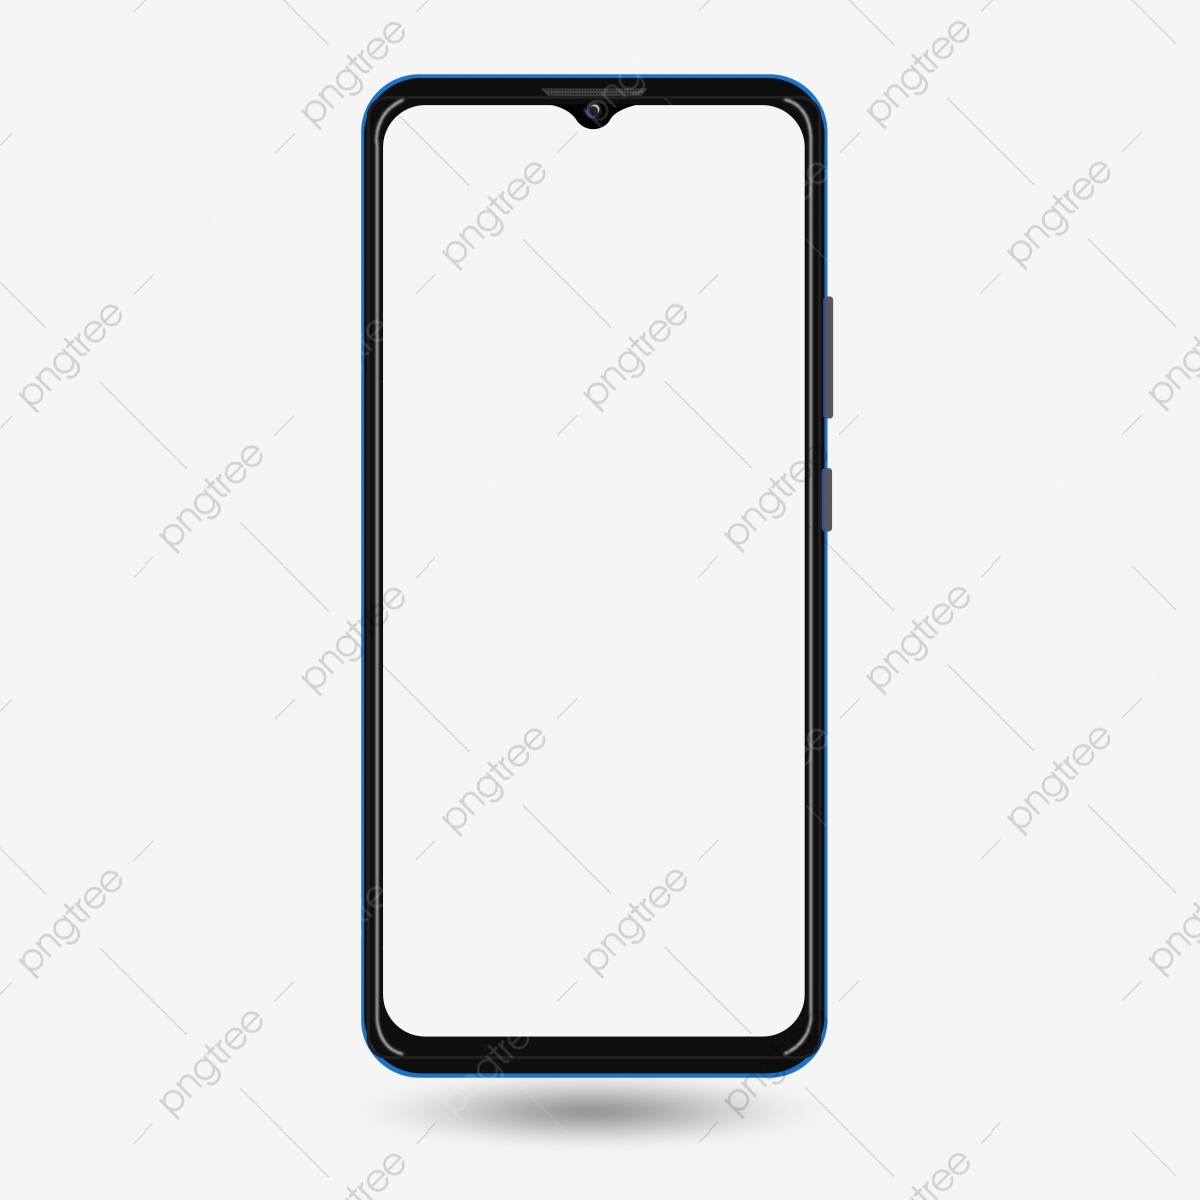phone: (346, 48, 846, 1101)
